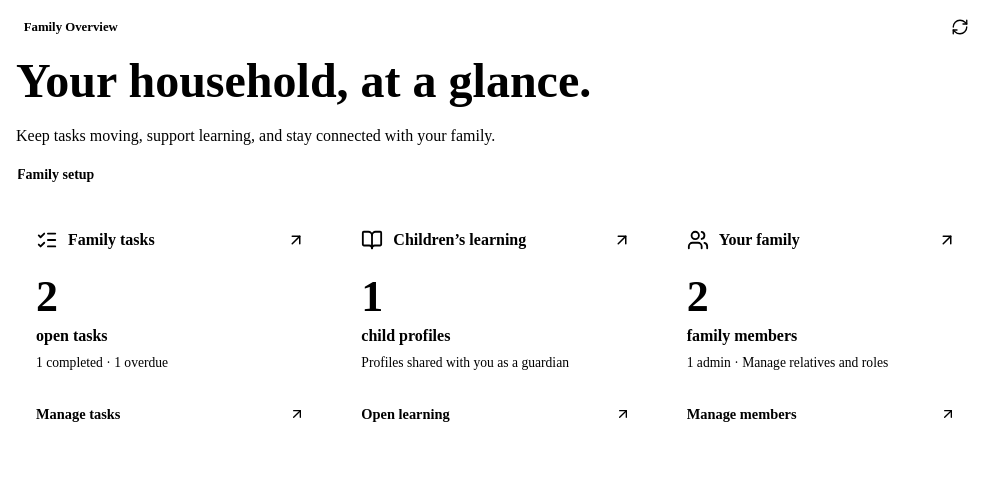
Test: keeps successful stats when one source fails and can refresh
Check: the text "1 completed · 1 overdue" is shown, box [36,355,168,370]
Click the button named "Refresh household stats" at x=960, y=27, box [944,16,976,38]
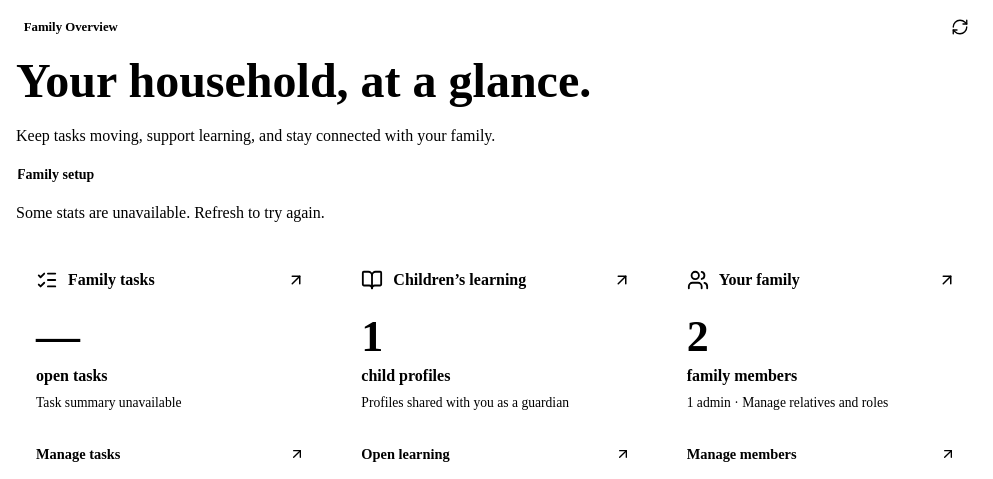
Check: the text "2" is shown, box [687,312,709,361]
Check: the text "Some stats are unavailable. Refresh to try again." is shown, box [16,204,325,221]
Check: the text "—" is shown, box [36,312,80,361]
Click the button named "Refresh household stats" at x=960, y=27, box [944,16,976,38]
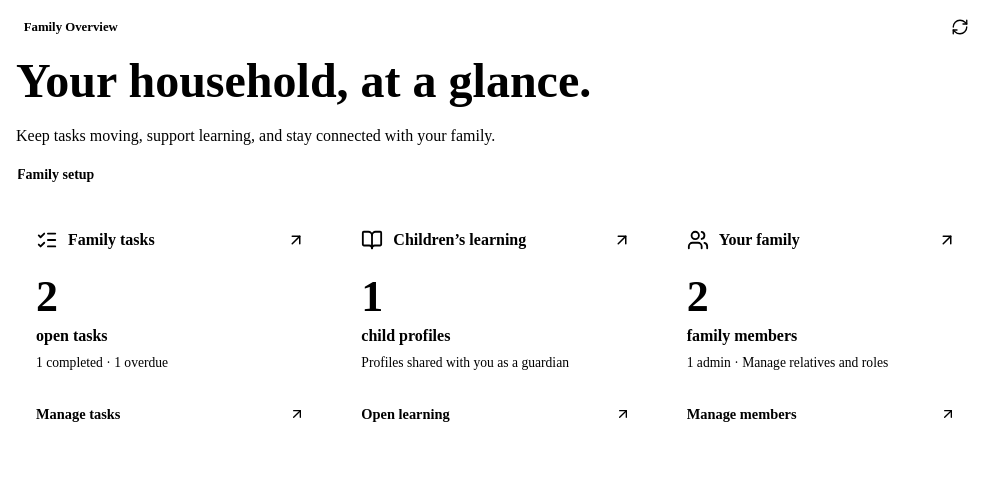
Check: the text "1 completed · 1 overdue" is shown, box [36,355,168,370]
